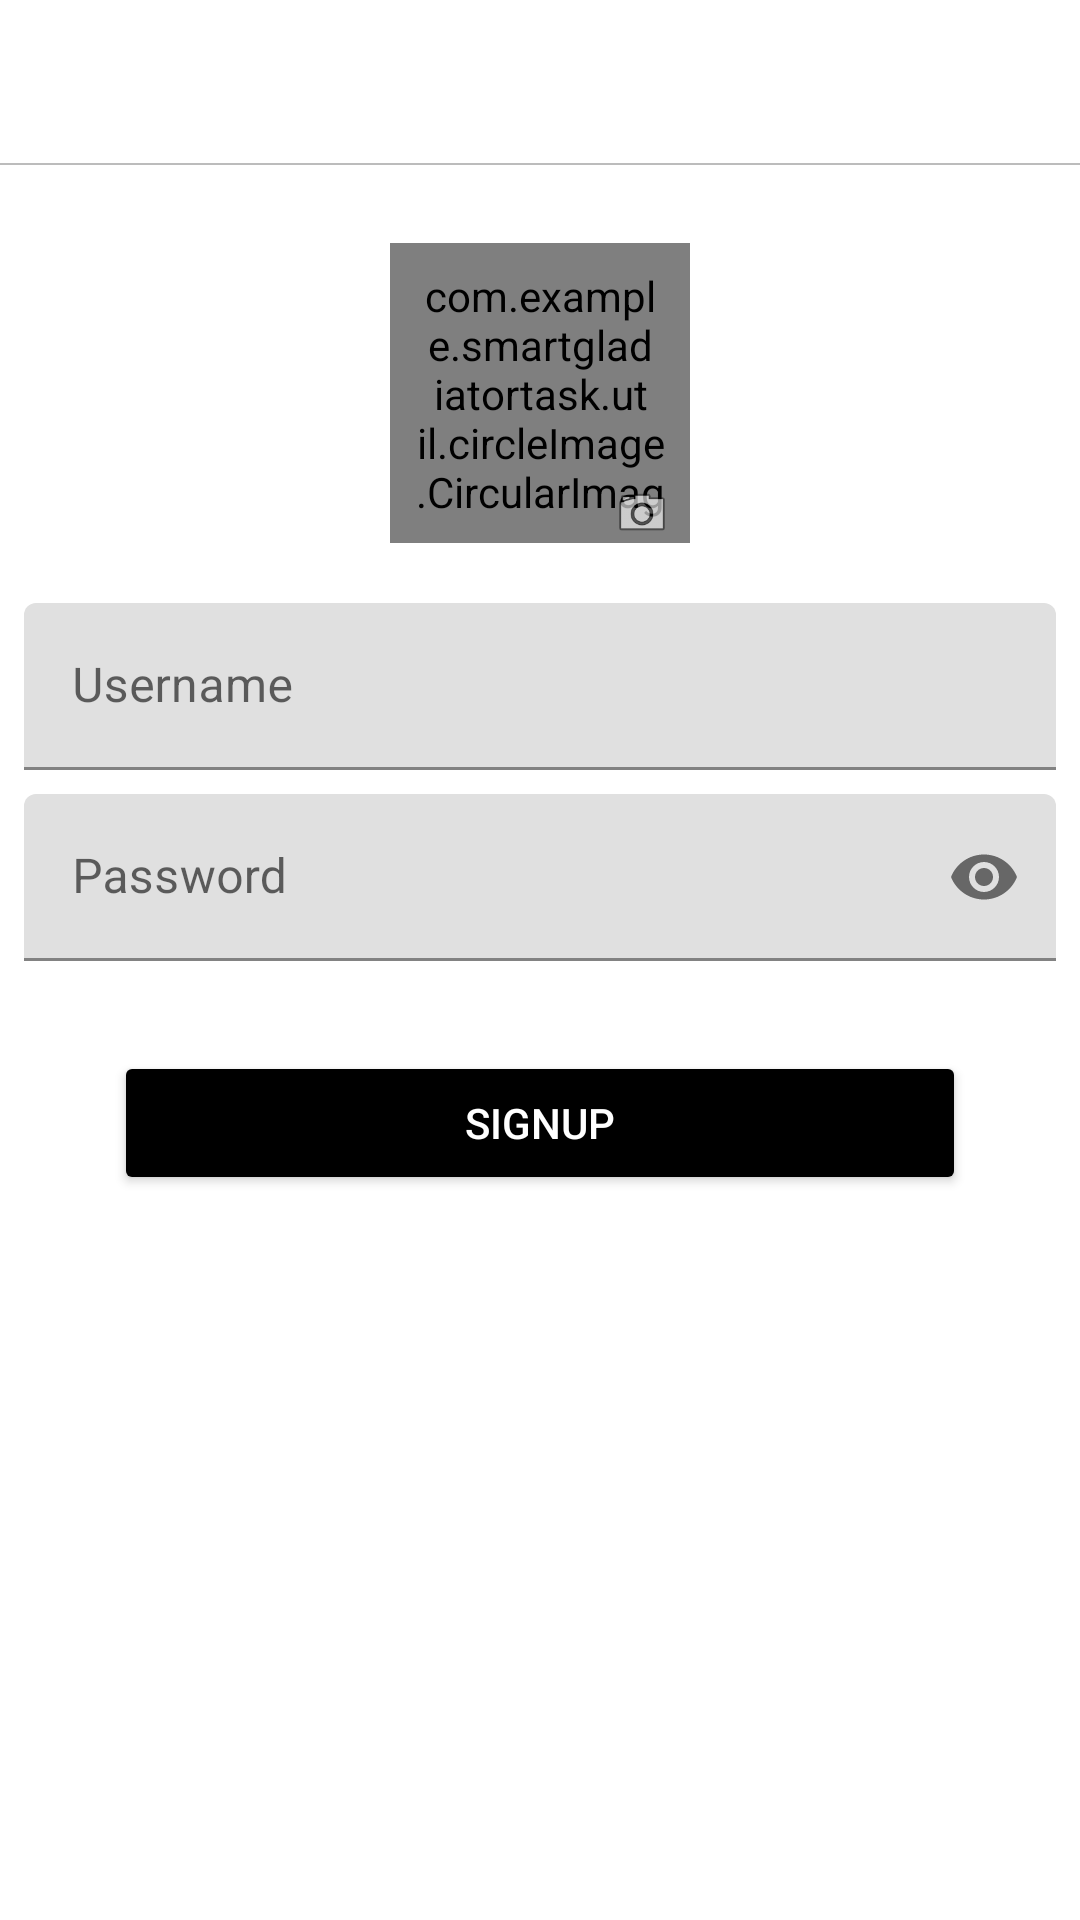

Screen size 1080 x 1920. Icon name, then its center in pixels as (x=x, y=y):
camera: (x=642, y=507)
